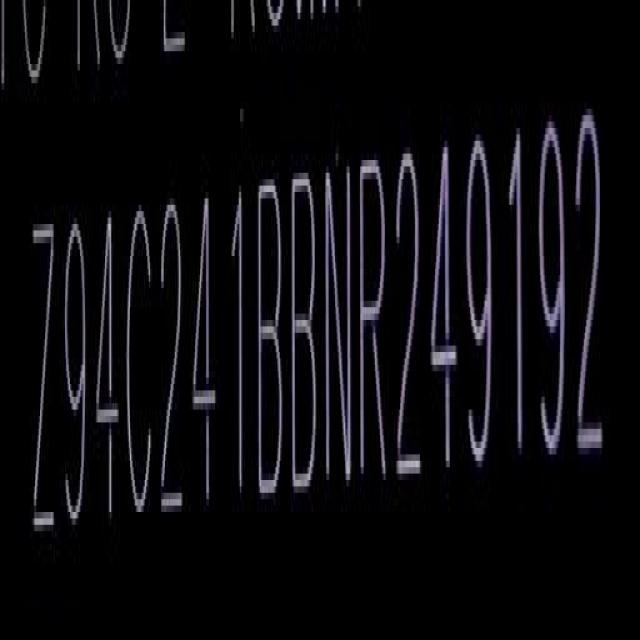1: (506, 120, 528, 474), (229, 178, 249, 516)
2: (160, 187, 190, 530), (575, 97, 603, 460), (396, 146, 425, 491)
4: (429, 139, 458, 482), (193, 187, 222, 527), (95, 206, 122, 538)
9: (537, 114, 570, 469), (462, 133, 493, 480), (61, 211, 88, 544)
B: (257, 171, 286, 511), (292, 164, 321, 502)
C: (128, 198, 158, 536)
N: (323, 156, 352, 498)
R: (358, 150, 389, 498)
Z: (27, 215, 57, 559)
